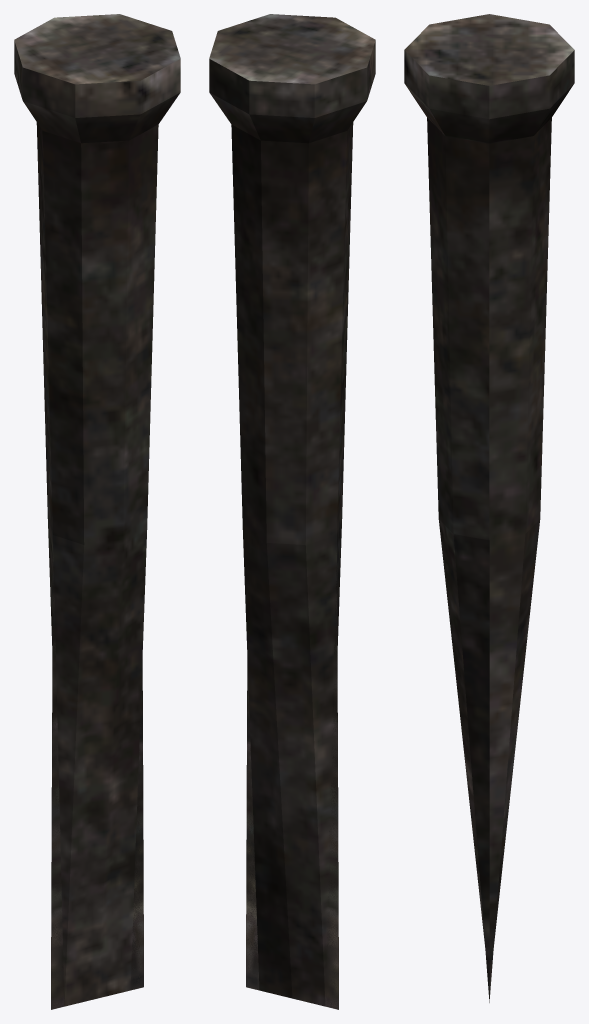
The model's file is stone_chipper.dae.
The picture shows the model from 3 angles, left to right: view 1: azimuth 30°, elevation 25°; view 2: azimuth 150°, elevation 25°; view 3: azimuth 270°, elevation 25°; orthographic projection.
Parts seen in each view (by area): view 1: pCylinder2; view 2: pCylinder2; view 3: pCylinder2.
Boxes of the visible parts, x1,y1,x2,y2 form: pCylinder2: [14, 14, 180, 1009]; pCylinder2: [209, 14, 375, 1009]; pCylinder2: [404, 14, 574, 1002].
Size of the model in its own units: 0.0585 by 0.3554 by 0.0585.
